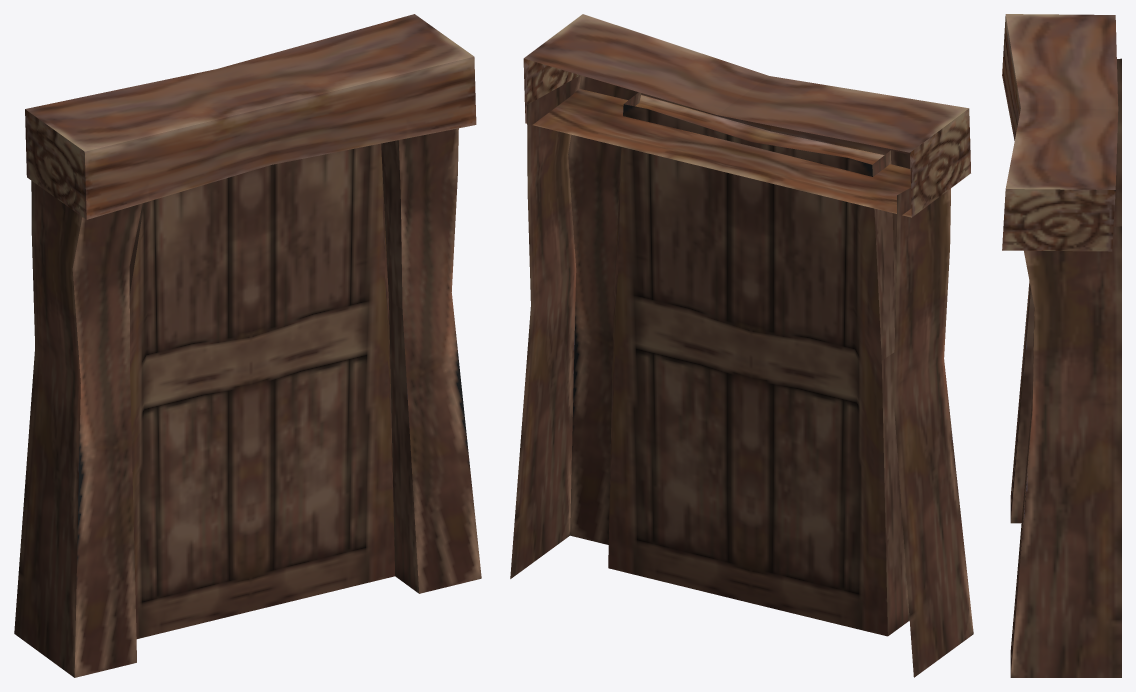
Rendered from door_box_LOD.fbx.
3 renders of one model, left to right at view 1: azimuth 30°, elevation 25°; view 2: azimuth 150°, elevation 25°; view 3: azimuth 270°, elevation 25°, orthographic. The views are drawn at different scales.
Parts seen in each view (by area): view 1: porta_quadrada_LOD0; view 2: porta_quadrada_LOD0; view 3: porta_quadrada_LOD0.
Boxes of the visible parts, x1,y1,x2,y2 form: porta_quadrada_LOD0: (14,14,481,677); porta_quadrada_LOD0: (510,14,973,677); porta_quadrada_LOD0: (1002,14,1121,677).
Size of what is drawn, in the model's own units: 94.76 by 117 by 26.24.
